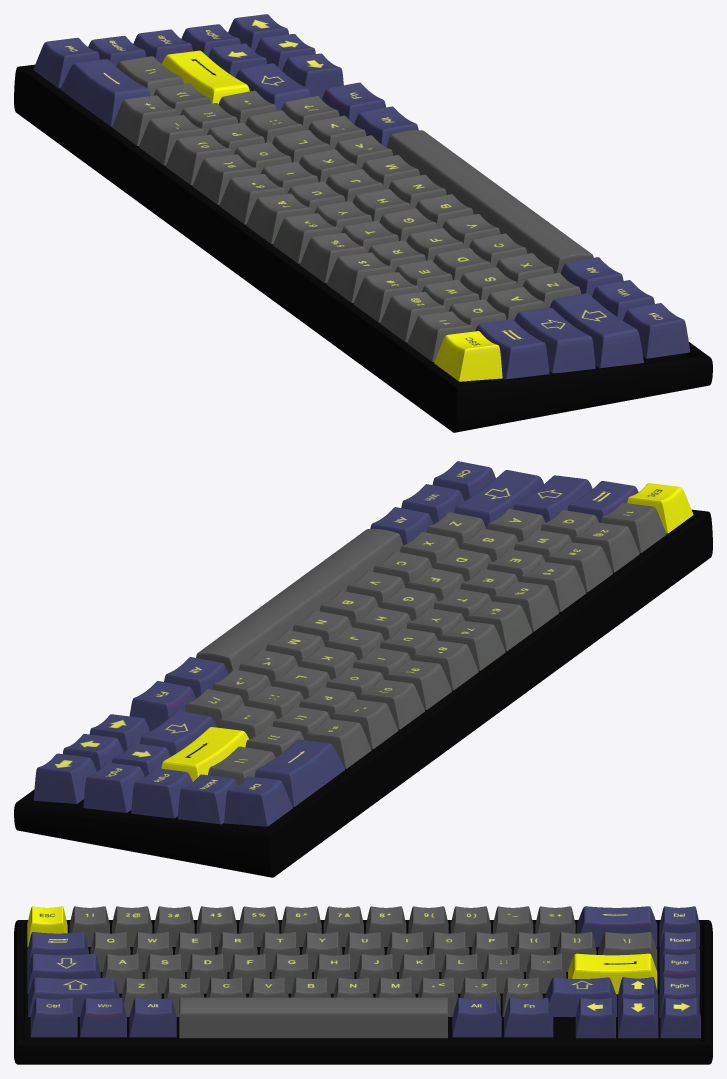
Rendered from 60_Keyboard_2_nightrunner-transformed.glb.
3 views of the same model, one above another, from view 1: azimuth 30°, elevation 25°; view 2: azimuth 150°, elevation 25°; view 3: azimuth 270°, elevation 25° (orthographic). The views are drawn at different scales.
Parts seen in each view (by area): view 1: Plane; view 2: Plane; view 3: Plane.
Boxes of the visible parts, left/top/right/bottom form: Plane: left=14, top=14, right=712, bottom=432; Plane: left=14, top=461, right=712, bottom=877; Plane: left=14, top=906, right=712, bottom=1064.
Size of the model in its own units: 4.25 by 1.38 by 12.64.
Materials: 2 (1 with a texture image).
